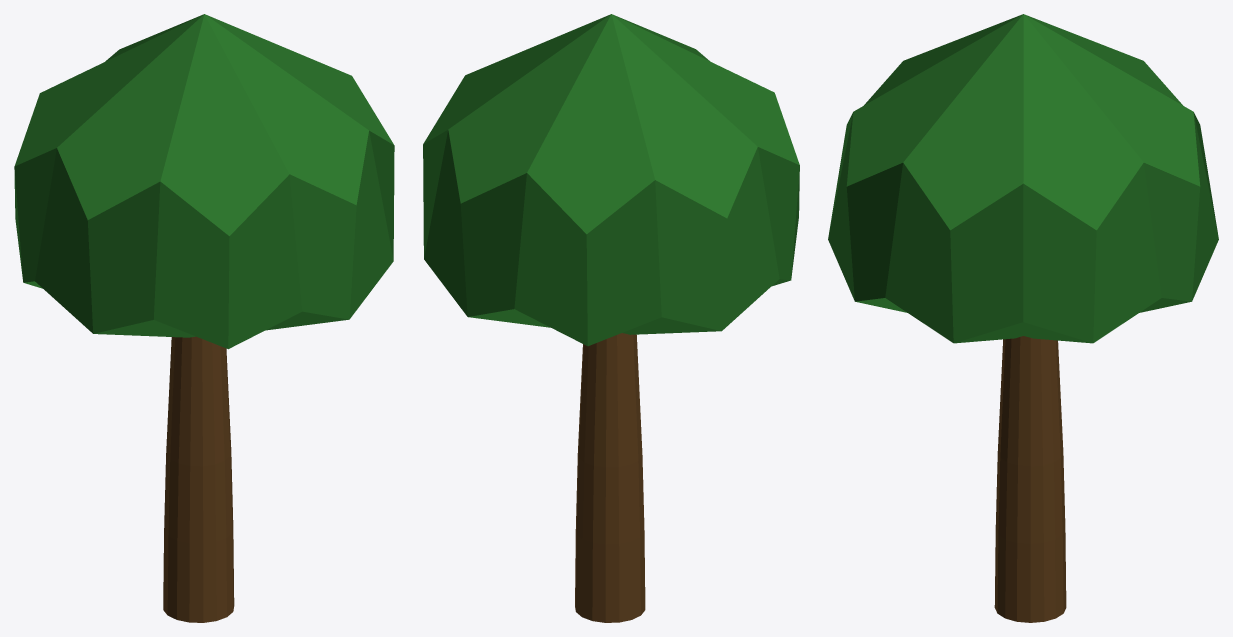
Rendered from tree_version2.fbx.
The picture shows the model from 3 angles, left to right: view 1: azimuth 30°, elevation 25°; view 2: azimuth 150°, elevation 25°; view 3: azimuth 270°, elevation 25°; orthographic projection.
Visible parts, largest first — view 1: Tree2; view 2: Tree2; view 3: Tree2.
Boxes of the visible parts, x1,y1,x2,y2 form: Tree2: (14, 14, 394, 622); Tree2: (423, 14, 799, 622); Tree2: (828, 14, 1218, 622).
Bounding box in the file's own units: 335 × 562 × 335.
